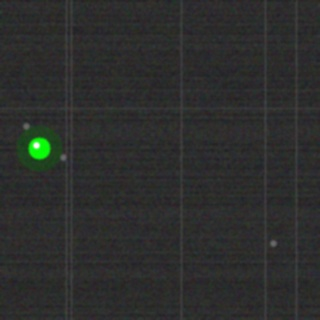green_normal: (26, 135, 52, 161)
